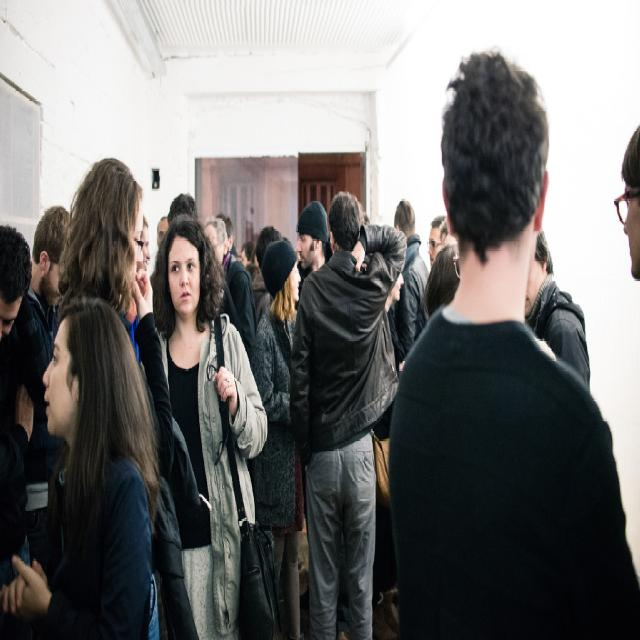Glasses: (613, 190, 640, 226), (452, 253, 462, 280), (133, 234, 144, 253), (426, 240, 441, 249)
